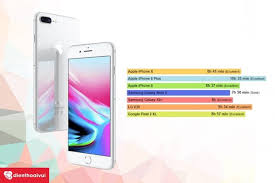iphone: (63, 41, 117, 174)
iphone8: (62, 39, 116, 172)
